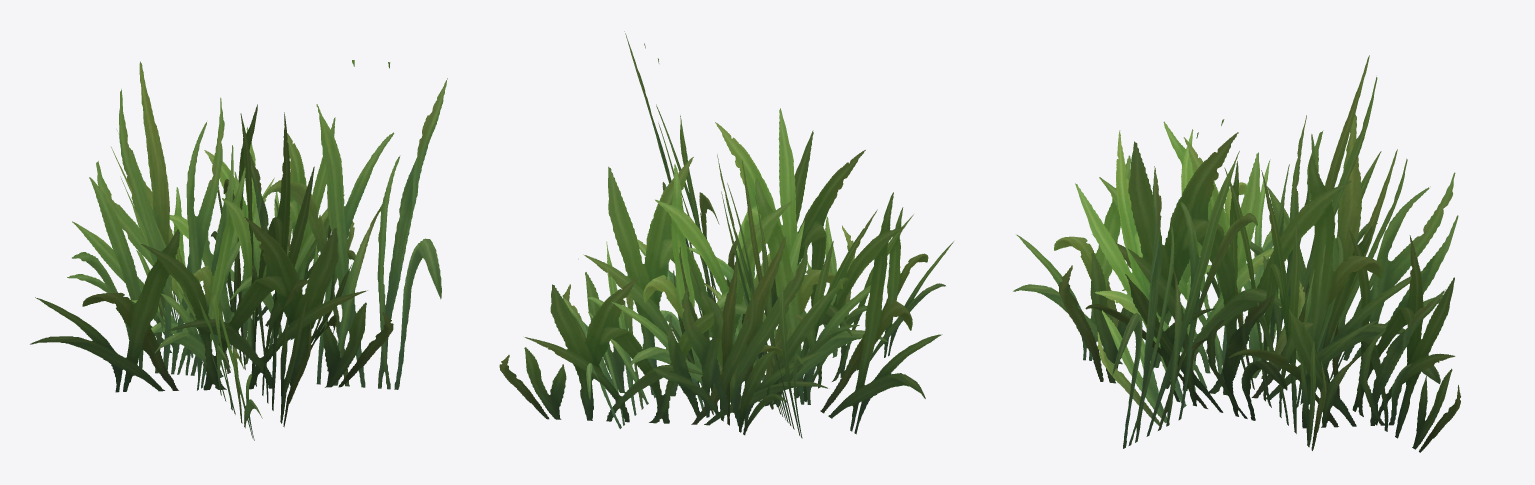
The model's file is zhucheng_zw01.FBX.
3 views of the same model, side by side, from view 1: azimuth 30°, elevation 25°; view 2: azimuth 150°, elevation 25°; view 3: azimuth 270°, elevation 25° (orthographic). The views are drawn at different scales.
Visible parts, largest first — view 1: zhucheng_zw01; view 2: zhucheng_zw01; view 3: zhucheng_zw01.
Part boxes in pixels (<box>): zhucheng_zw01: <box>30,60,447,440</box>; zhucheng_zw01: <box>499,31,953,438</box>; zhucheng_zw01: <box>1013,55,1460,452</box>.
Bounding box in the file's own units: 133 × 141 × 101.
